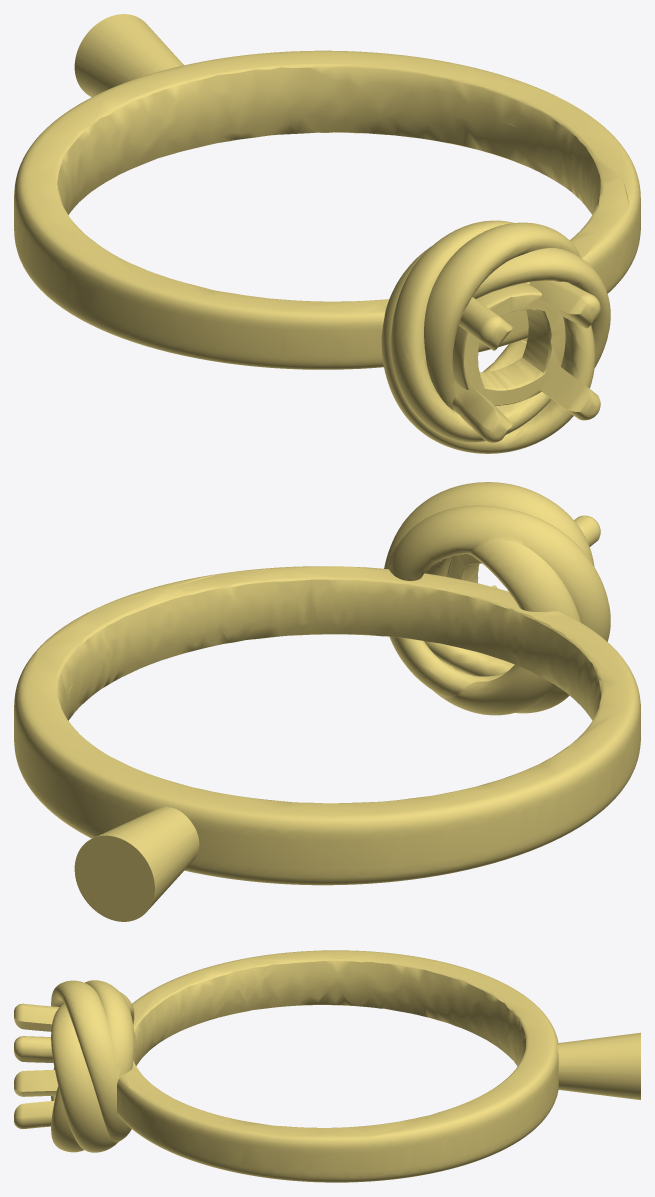
3 views of the same model, one above another, from view 1: azimuth 30°, elevation 25°; view 2: azimuth 150°, elevation 25°; view 3: azimuth 270°, elevation 25° (orthographic). The views are drawn at different scales.
Visible parts, largest first — view 1: Renderer Node; view 2: Renderer Node; view 3: Renderer Node.
Part boxes in pixels (<box>): Renderer Node: <box>14,14,640,453</box>; Renderer Node: <box>14,482,640,921</box>; Renderer Node: <box>14,950,640,1182</box>.
Bounding box in the file's own units: 20.9 × 8.04 × 28.71.
